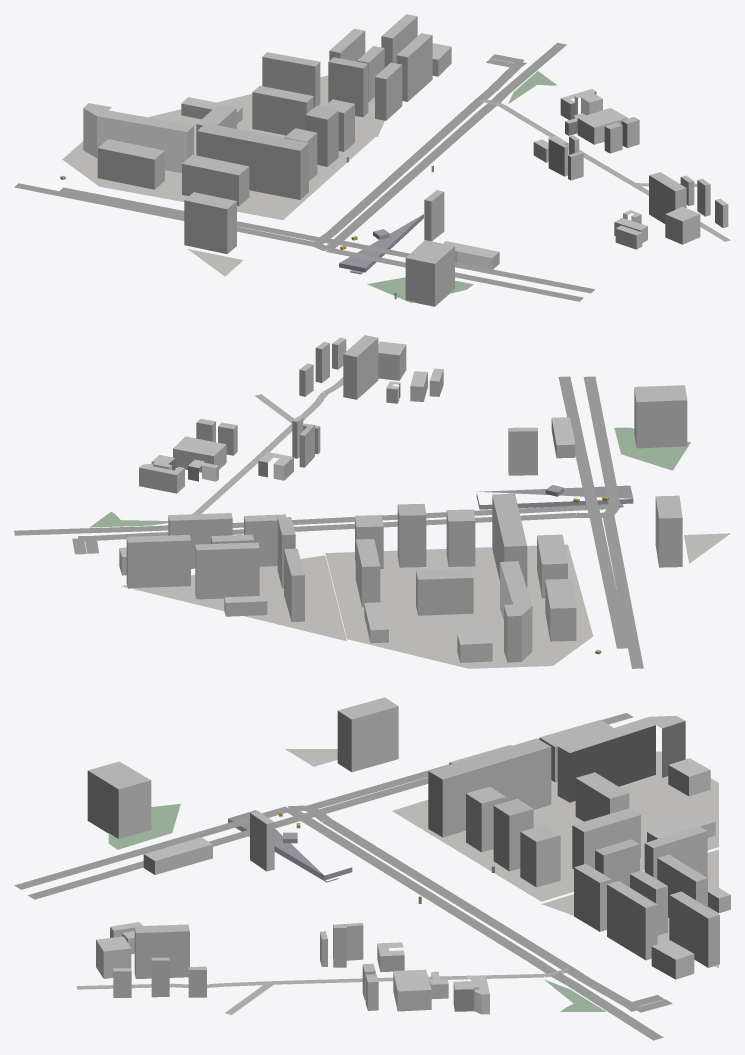
The picture shows the model from 3 angles, top to bottom: view 1: azimuth 30°, elevation 25°; view 2: azimuth 150°, elevation 25°; view 3: azimuth 270°, elevation 25°; orthographic projection. The views are drawn at different scales.
Size of the model in its own units: 628 by 64.74 by 587.
